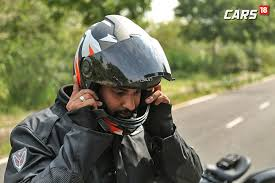helmet: (72, 14, 178, 133)
